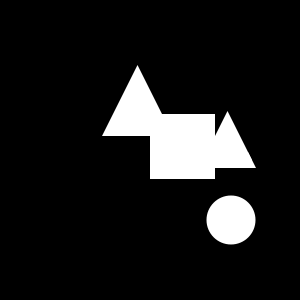circle: (150, 114, 215, 179)
rectangle: (206, 195, 256, 244)
triangle: (102, 65, 173, 136), (199, 111, 256, 168), (244, 152, 252, 160)
